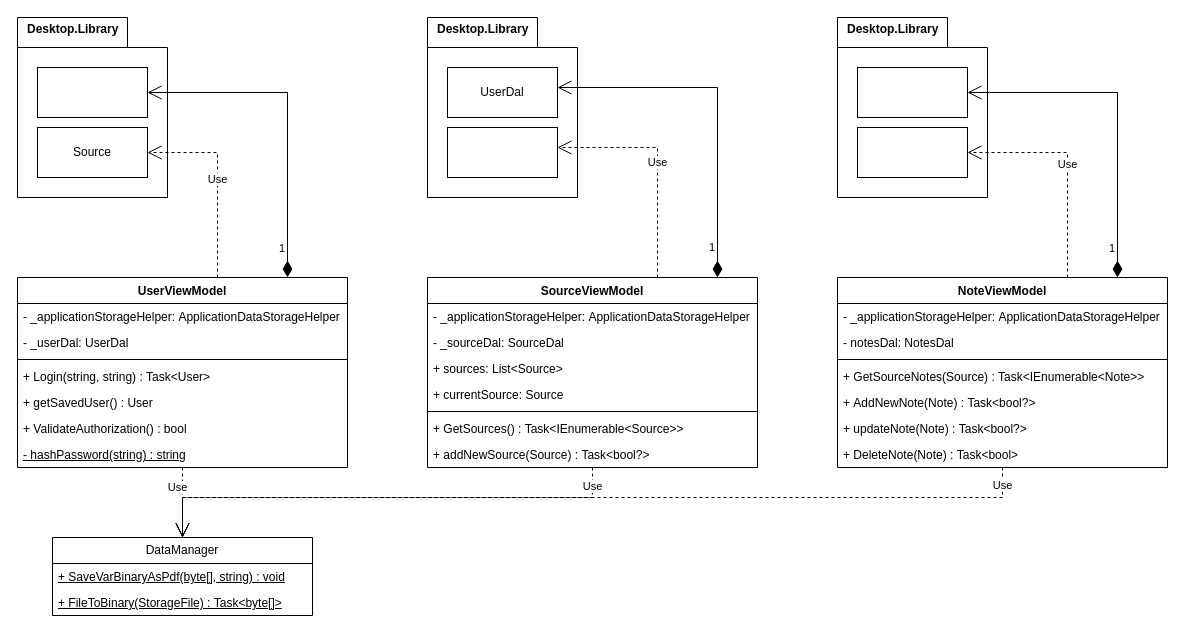
The diagram is 1185 pixels wide and 636 high, and some of its shapes have lost their labels. Each missing label, with the centre of its shape:
"Note" goes at (912,152).
"NotesDal" goes at (912,92).
"SourceDal" goes at (92,92).
"User" goes at (502,152).
